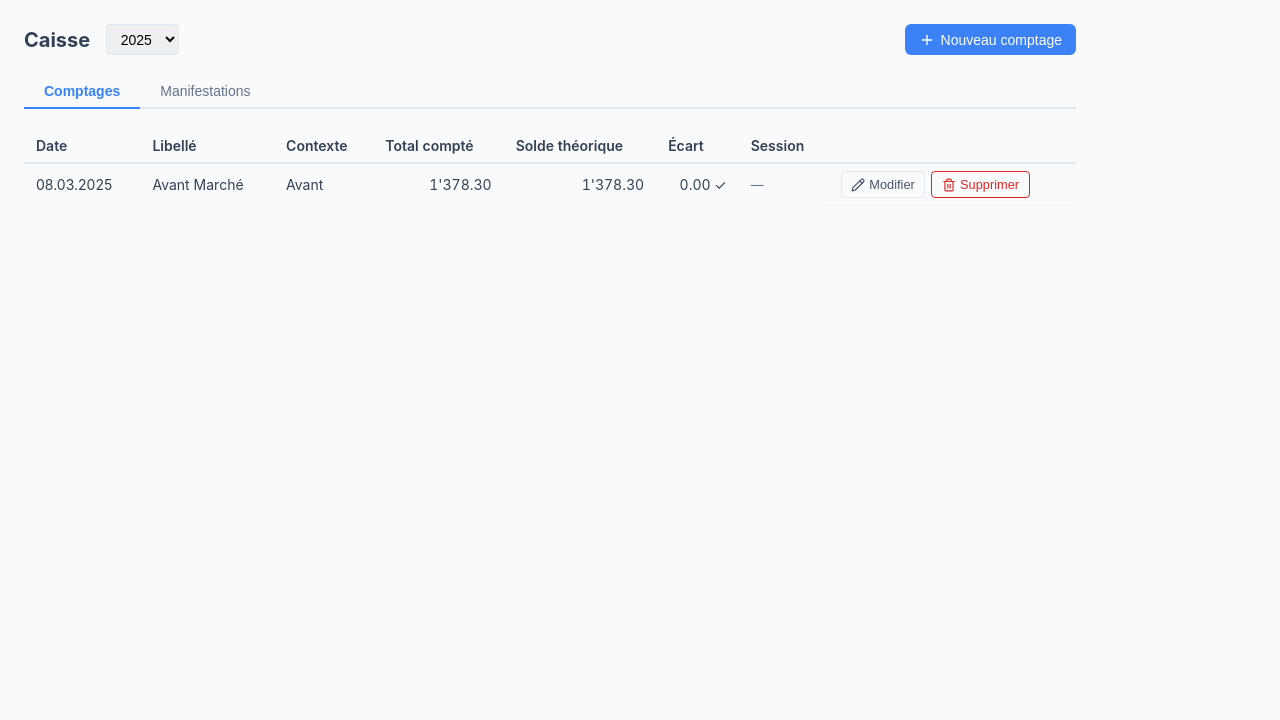
Scenario: CaissePage › le bouton Modifier ouvre la modale en mode édition
Expected: the text "Avant Marché" is shown, [140, 163, 274, 206]
Click the button "Modifier". click: (883, 185)
box: [841, 171, 925, 198]
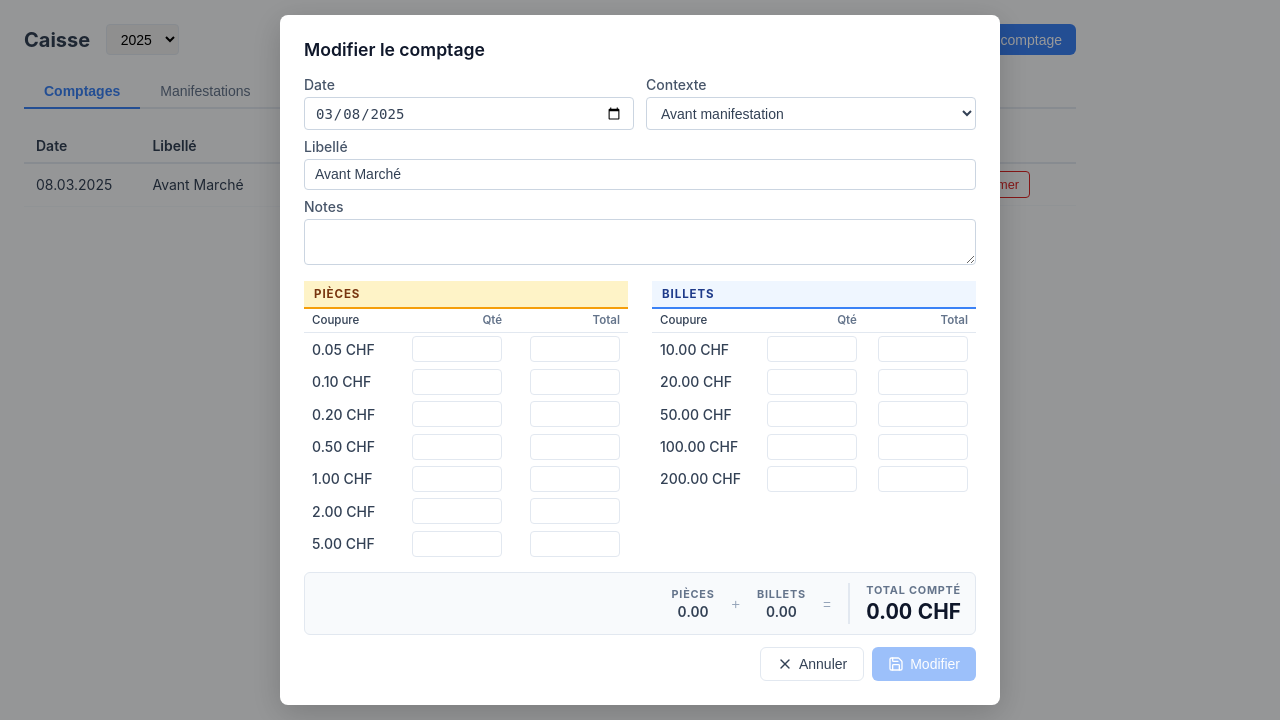
Expected: the heading "Modifier le comptage" is shown, [304, 39, 485, 60]
